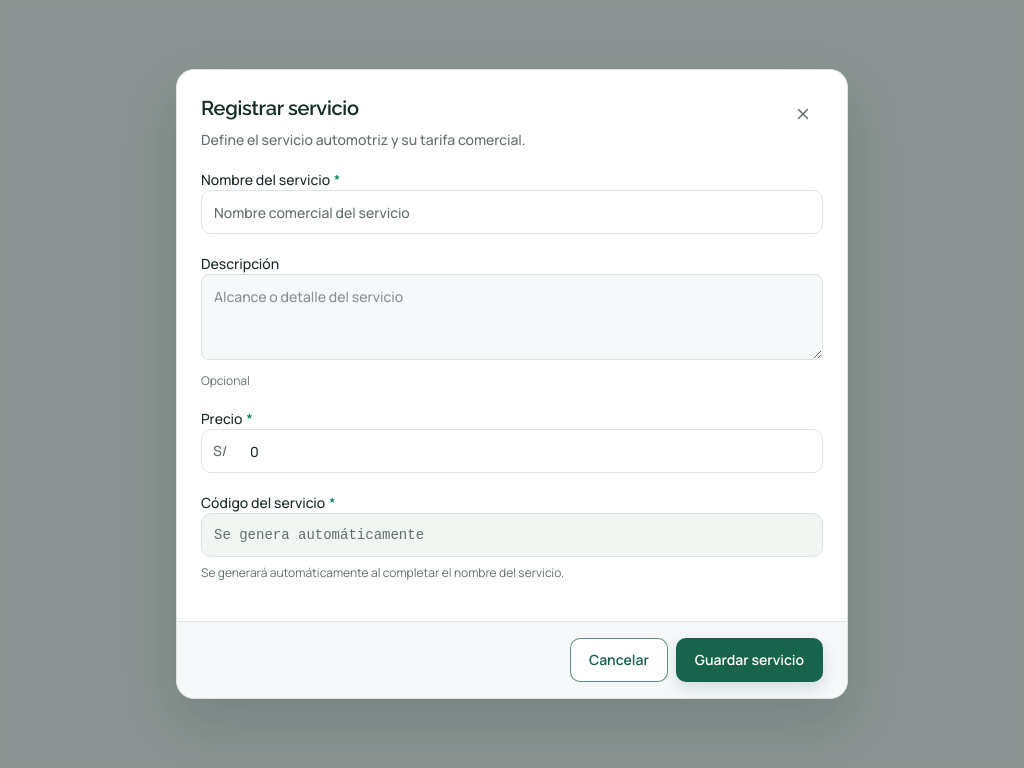
Test: Formulario de servicios › valida el formulario sin enviar campos vacíos
Click the button "Guardar servicio" at [749, 660], box left=676, top=638, right=823, bottom=682
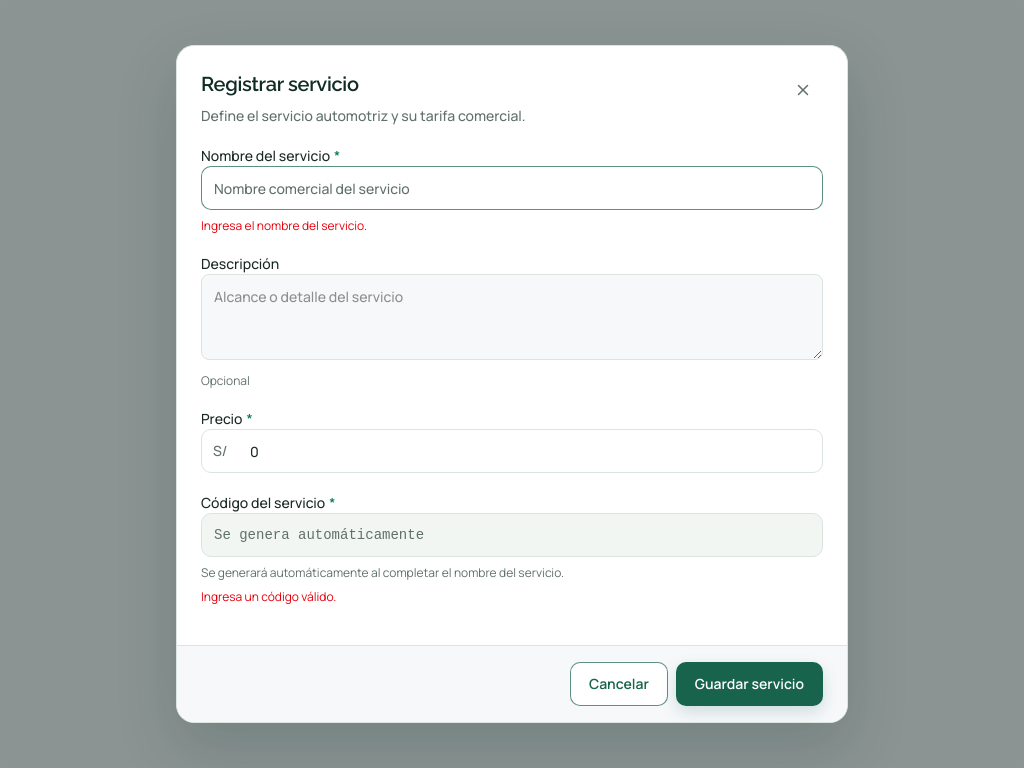
Expected: the text "Ingresa un código válido." is shown, left=201, top=588, right=336, bottom=605
Expected: the text "Ingresa el nombre del servicio." is shown, left=201, top=217, right=367, bottom=234
